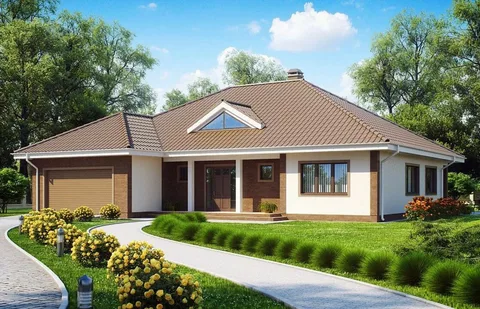private_hause: (56, 84, 444, 220)
